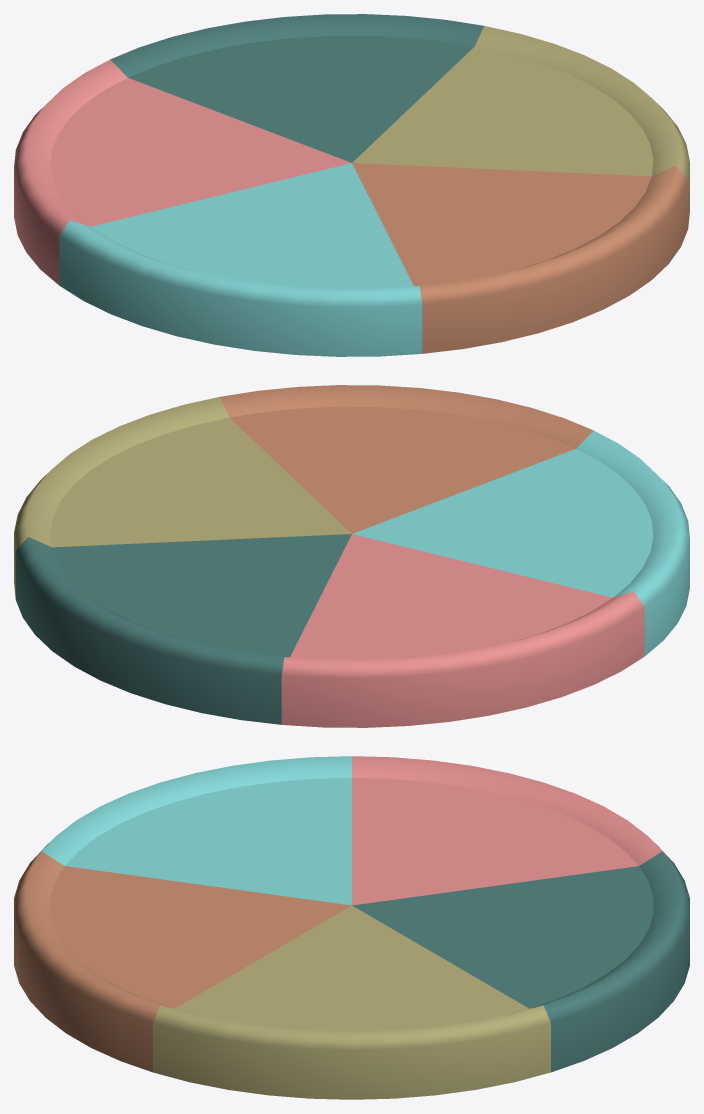
Rendered from medal.fbx.
3 views of the same model, one above another, from view 1: azimuth 30°, elevation 25°; view 2: azimuth 150°, elevation 25°; view 3: azimuth 270°, elevation 25° (orthographic).
Parts seen in each view (by area): view 1: pCylinder3, pCylinder4, pCylinder1, pCylinder6, pCylinder5; view 2: pCylinder1, pCylinder6, pCylinder3, pCylinder4, pCylinder5; view 3: pCylinder5, pCylinder6, pCylinder4, pCylinder1, pCylinder3.
Part boxes in pixels (x1,y1,x2,y2): pCylinder3: (59, 163, 422, 356); pCylinder4: (352, 163, 688, 353); pCylinder1: (14, 59, 350, 285); pCylinder6: (110, 14, 483, 162); pCylinder5: (352, 26, 689, 225); pCylinder1: (281, 534, 644, 727); pCylinder6: (15, 534, 351, 724); pCylinder3: (353, 430, 689, 656); pCylinder4: (220, 385, 593, 533); pCylinder5: (14, 397, 351, 596); pCylinder5: (153, 905, 550, 1099); pCylinder6: (352, 851, 689, 1072); pCylinder4: (14, 851, 351, 1072); pCylinder1: (352, 756, 671, 905); pCylinder3: (32, 756, 351, 905).
Bounding box in the file's own units: 5.83 × 0.5956 × 5.82.
